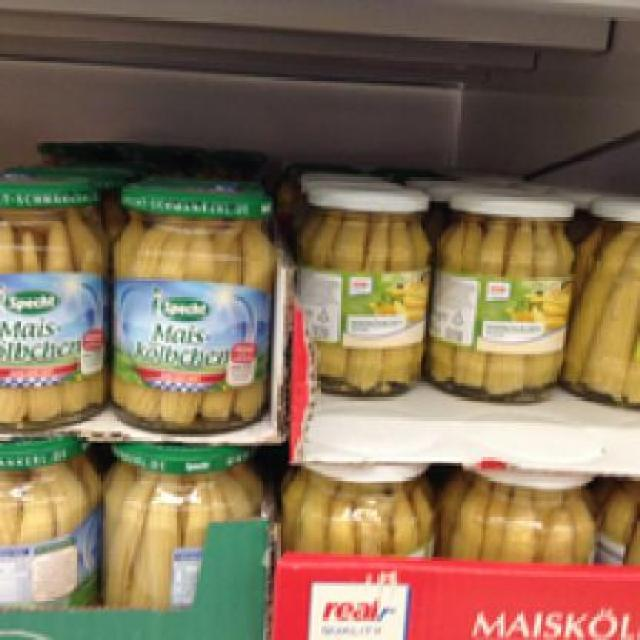Corn: (102, 176, 272, 432), (425, 188, 578, 404), (294, 182, 432, 392), (94, 443, 260, 606), (0, 174, 103, 423), (429, 463, 600, 563), (277, 452, 434, 554), (0, 440, 95, 604)
